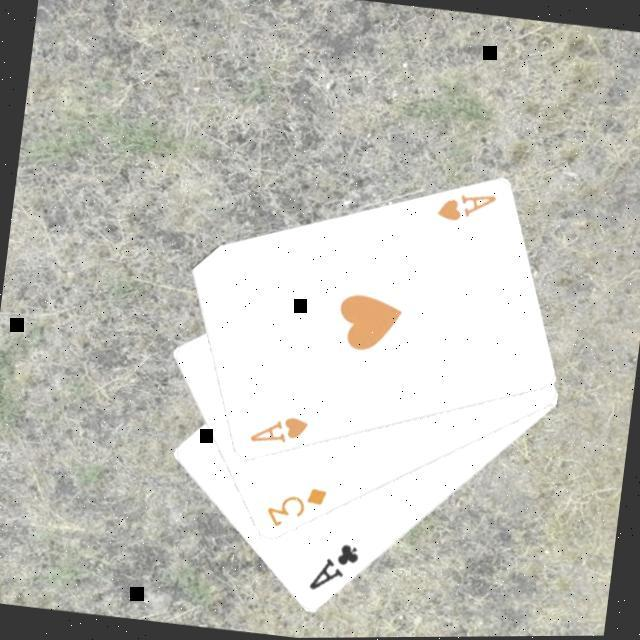3D: (257, 480, 329, 538)
AC: (302, 539, 361, 601)
AH: (429, 186, 497, 232), (242, 409, 310, 454)
